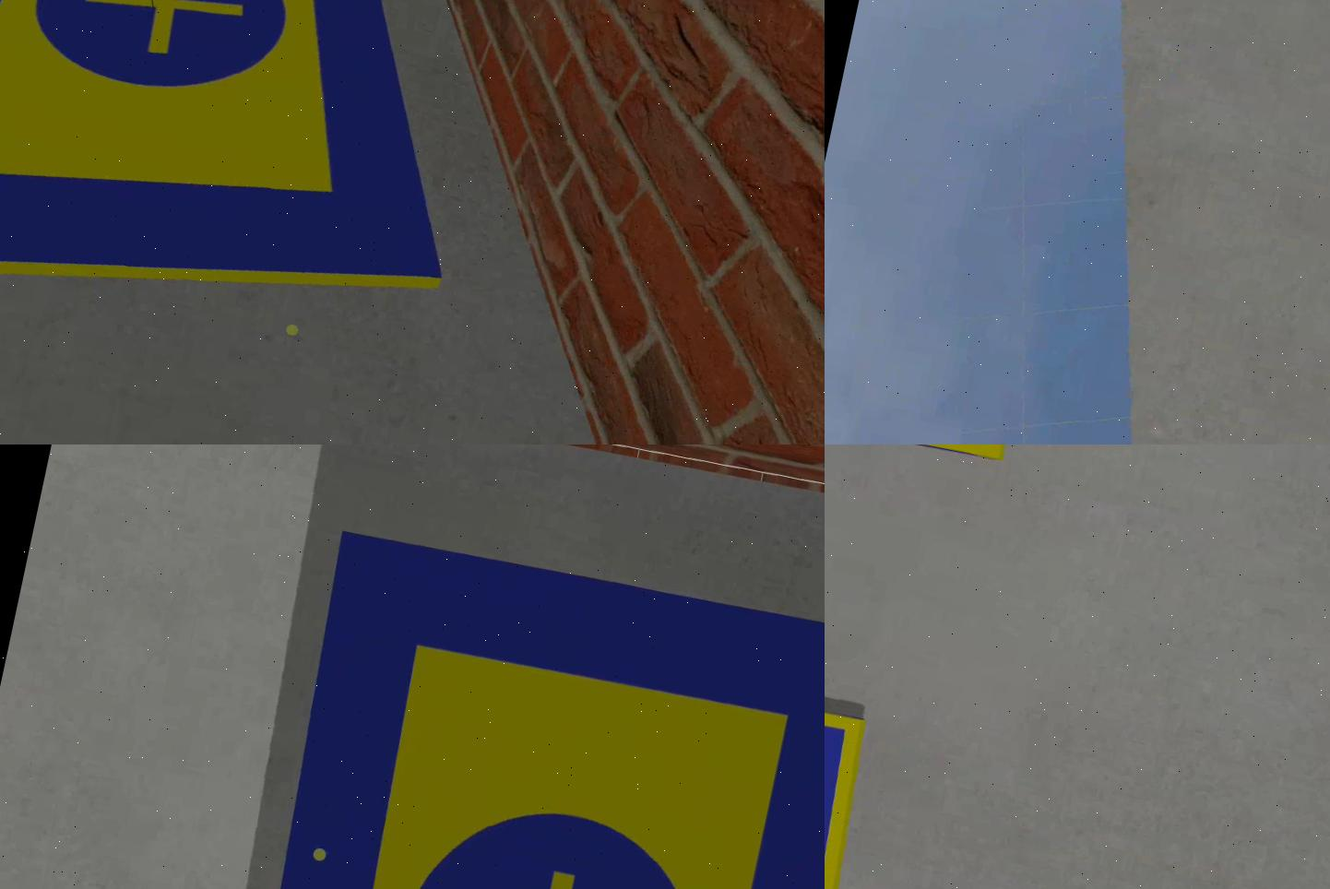large_base: (232, 522, 825, 889), (1, 1, 527, 399)
small_base: (825, 676, 875, 889)
